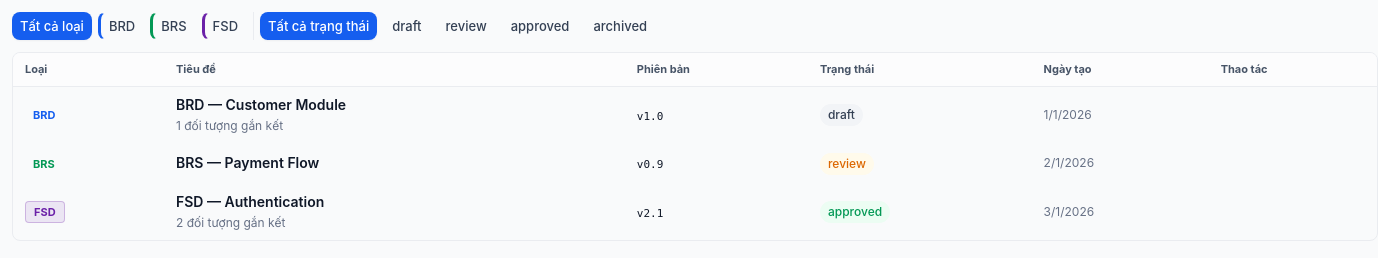
Test: BADocumentList › filters by doc type
Click the button "BRS" at (173, 26), box [150,12,196,40]
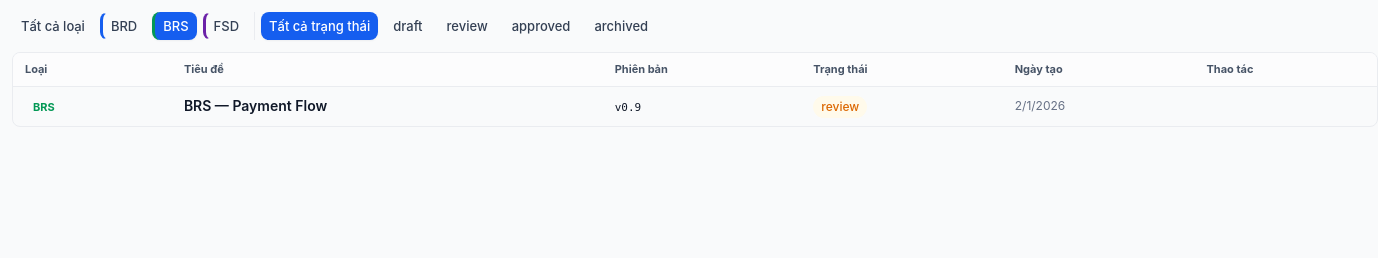
Expected: the text "BRS — Payment Flow" is shown, [184,97,327,114]
Expected: the text "BRD — Customer Module" is gone
